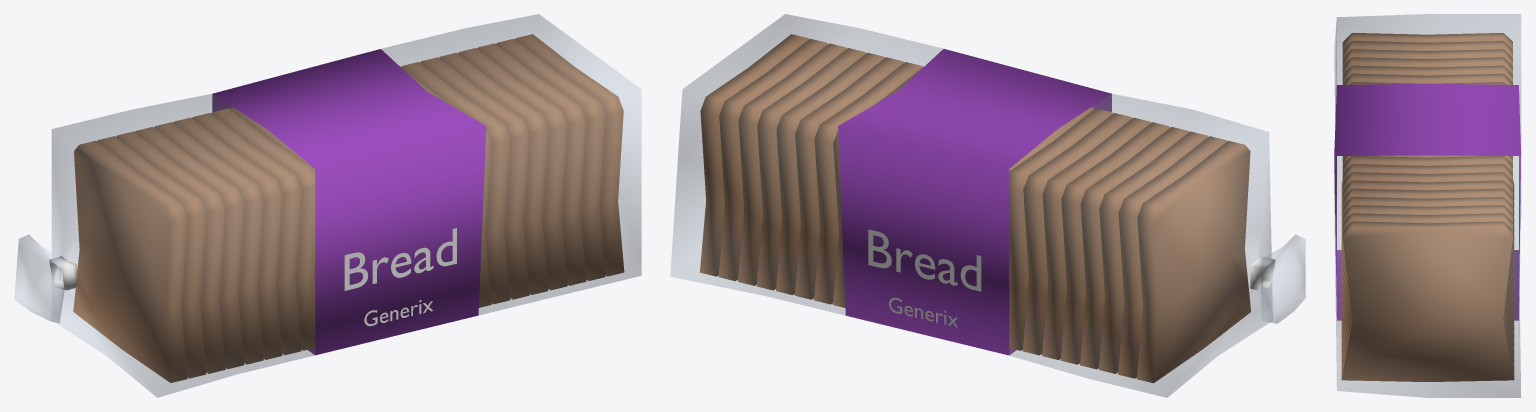
The model's file is Bread.glb.
3 renders of one model, left to right at view 1: azimuth 30°, elevation 25°; view 2: azimuth 150°, elevation 25°; view 3: azimuth 270°, elevation 25°, orthographic. The views are drawn at different scales.
Parts seen in each view (by area): view 1: Bread; view 2: Bread; view 3: Bread.
Part boxes in pixels (left/top/right/bottom): Bread: left=14, top=14, right=641, bottom=397; Bread: left=670, top=14, right=1305, bottom=397; Bread: left=1334, top=14, right=1521, bottom=397.
Bounding box in the file's own units: 7.03 × 2.25 × 2.26.
